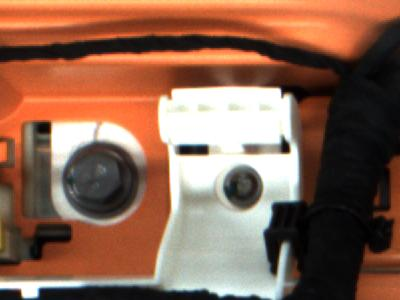nut_b: (60, 139, 144, 222)
